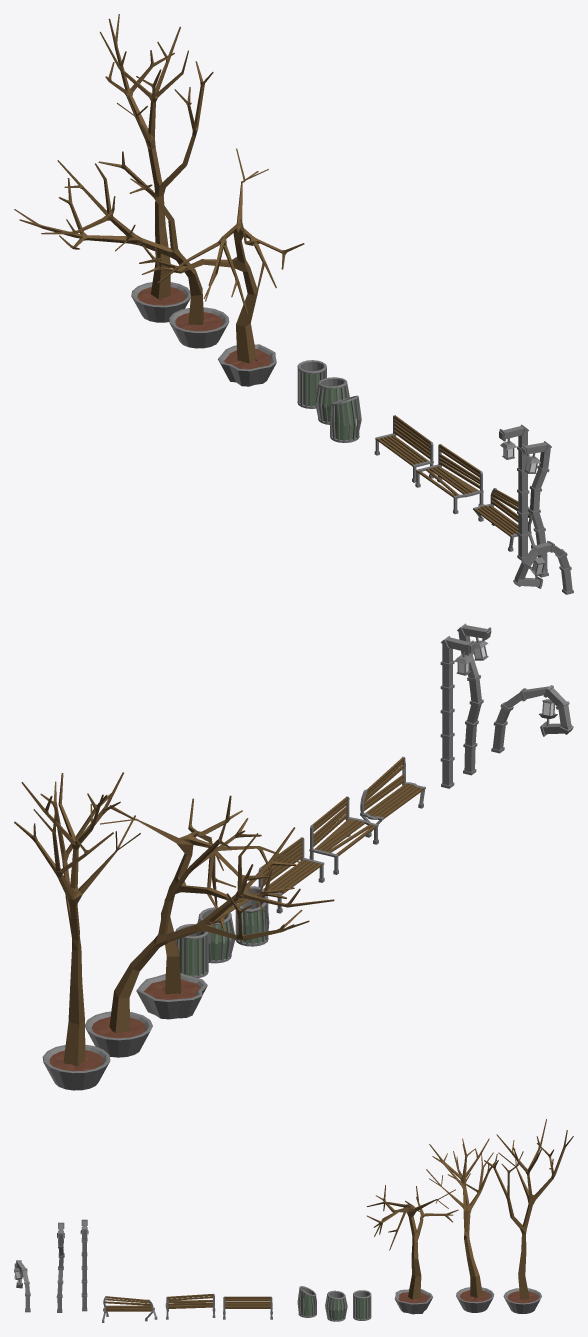
Rendered from PropsProjectVrij_Bench-Tree-Trashcan-Lantern_3Forms.fbx.
3 renders of one model, top to bottom at view 1: azimuth 30°, elevation 25°; view 2: azimuth 150°, elevation 25°; view 3: azimuth 270°, elevation 25°, orthographic. The views are drawn at different scales.
Parts seen in each view (by area): view 1: Tree.002, tree.003, Tree.001, Bench.005, Bench.006, Lantern.008, Lantern.006, Lantern.007, Bench.004, Trashcan.004, Trashcan.006, Trashcan.005; view 2: Tree.002, Tree.001, tree.003, Bench.005, Lantern.008, Bench.004, Lantern.007, Lantern.006, Bench.006, Trashcan.006, Trashcan.004, Trashcan.005; view 3: Tree.002, Tree.001, tree.003, Bench.004, Bench.005, Bench.006, Trashcan.005, Trashcan.006, Trashcan.004, Lantern.008, Lantern.006, Lantern.007.
Boxes of the visible parts, x1,y1,x2,y2 form: Tree.002: (99, 14, 213, 322); tree.003: (139, 148, 304, 386); Tree.001: (14, 151, 229, 348); Bench.005: (415, 444, 483, 514); Bench.006: (374, 415, 434, 482); Lantern.008: (499, 424, 529, 559); Lantern.006: (521, 441, 551, 577); Lantern.007: (513, 540, 573, 594); Bench.004: (473, 488, 534, 551); Trashcan.004: (330, 395, 361, 442); Trashcan.006: (297, 360, 326, 408); Trashcan.005: (314, 377, 349, 424); Tree.002: (14, 772, 140, 1090); Tree.001: (85, 818, 334, 1057); tree.003: (100, 795, 303, 1019); Bench.005: (309, 796, 378, 874); Lantern.008: (440, 636, 474, 788); Bench.004: (360, 756, 425, 837); Lantern.007: (491, 685, 573, 753); Lantern.006: (457, 623, 491, 775); Bench.006: (258, 837, 324, 913); Trashcan.006: (176, 924, 208, 978); Trashcan.004: (235, 886, 269, 946); Trashcan.005: (197, 907, 235, 963); Tree.002: (484, 1119, 573, 1313); Tree.001: (426, 1138, 496, 1312); tree.003: (366, 1185, 458, 1314); Bench.004: (102, 1296, 157, 1322); Bench.005: (165, 1293, 215, 1319); Bench.006: (223, 1296, 272, 1319); Trashcan.005: (325, 1290, 347, 1321); Trashcan.006: (353, 1290, 371, 1320); Trashcan.004: (297, 1286, 316, 1317); Lantern.008: (80, 1219, 88, 1311); Lantern.006: (56, 1222, 64, 1312); Lantern.007: (14, 1260, 30, 1312).
Bounding box in the file's own units: 1729 × 2144 × 6098.
